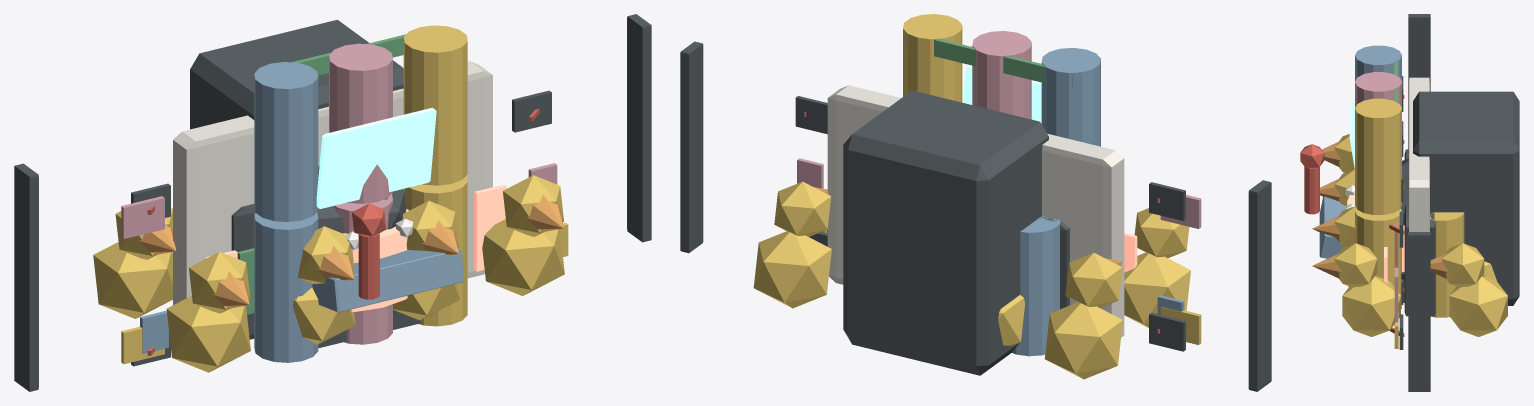
Rendered from personality.glb.
The picture shows the model from 3 angles, left to right: view 1: azimuth 30°, elevation 25°; view 2: azimuth 150°, elevation 25°; view 3: azimuth 270°, elevation 25°; orthographic projection. The views are drawn at different scales.
Visible parts, largest first — view 1: HF_EnergyDrinkStack, HF_RubberDuckArmy, HF_MiniArcade, HF_StartupKPIBoard, HF_FundraisingBoard, HF_BugGraveyardBoard, HF_LaunchCountdown, HF_BigRedButton, HF_PetRock; view 2: HF_MiniArcade, HF_BugGraveyardBoard, HF_RubberDuckArmy, HF_EnergyDrinkStack, HF_FundraisingBoard, HF_StartupKPIBoard, HF_LaunchCountdown; view 3: HF_MiniArcade, HF_EnergyDrinkStack, HF_RubberDuckArmy, HF_BugGraveyardBoard, HF_StartupKPIBoard, HF_FundraisingBoard, HF_LaunchCountdown, HF_PetRock, HF_BigRedButton.
Part boxes in pixels (x1,y1,x2,y2): HF_EnergyDrinkStack: (254, 25, 467, 362); HF_RubberDuckArmy: (93, 175, 564, 372); HF_MiniArcade: (190, 19, 464, 312); HF_StartupKPIBoard: (19, 16, 651, 391); HF_FundraisingBoard: (18, 17, 646, 364); HF_BugGraveyardBoard: (14, 14, 646, 388); HF_LaunchCountdown: (205, 184, 506, 339); HF_BigRedButton: (318, 209, 421, 348); HF_PetRock: (317, 165, 413, 250); HF_MiniArcade: (843, 66, 1048, 375); HF_BugGraveyardBoard: (680, 44, 1268, 391); HF_RubberDuckArmy: (753, 181, 1190, 379); HF_EnergyDrinkStack: (903, 14, 1100, 356); HF_FundraisingBoard: (684, 33, 1269, 344); HF_StartupKPIBoard: (684, 41, 1271, 383); HF_LaunchCountdown: (1040, 216, 1137, 309); HF_MiniArcade: (1300, 91, 1519, 305); HF_EnergyDrinkStack: (1355, 45, 1464, 317); HF_RubberDuckArmy: (1312, 134, 1507, 336); HF_BugGraveyardBoard: (1389, 14, 1430, 391); HF_StartupKPIBoard: (1394, 14, 1425, 391); HF_FundraisingBoard: (1394, 14, 1425, 348); HF_LaunchCountdown: (1384, 149, 1435, 316); HF_PetRock: (1345, 158, 1408, 225); HF_BigRedButton: (1347, 195, 1404, 302).
Bounding box in the file's own units: 1.67 × 0.7 × 0.6983.
